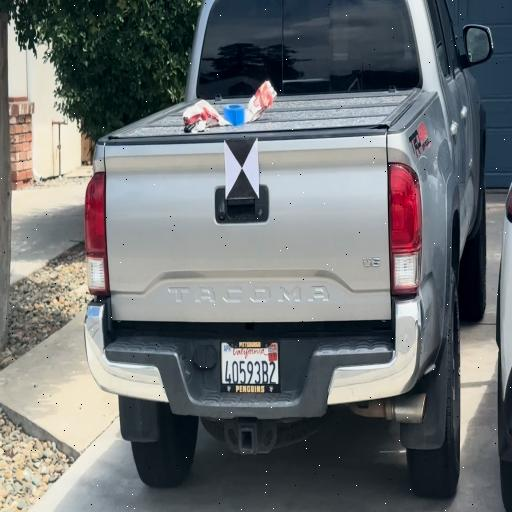target: (224, 137, 259, 200)
